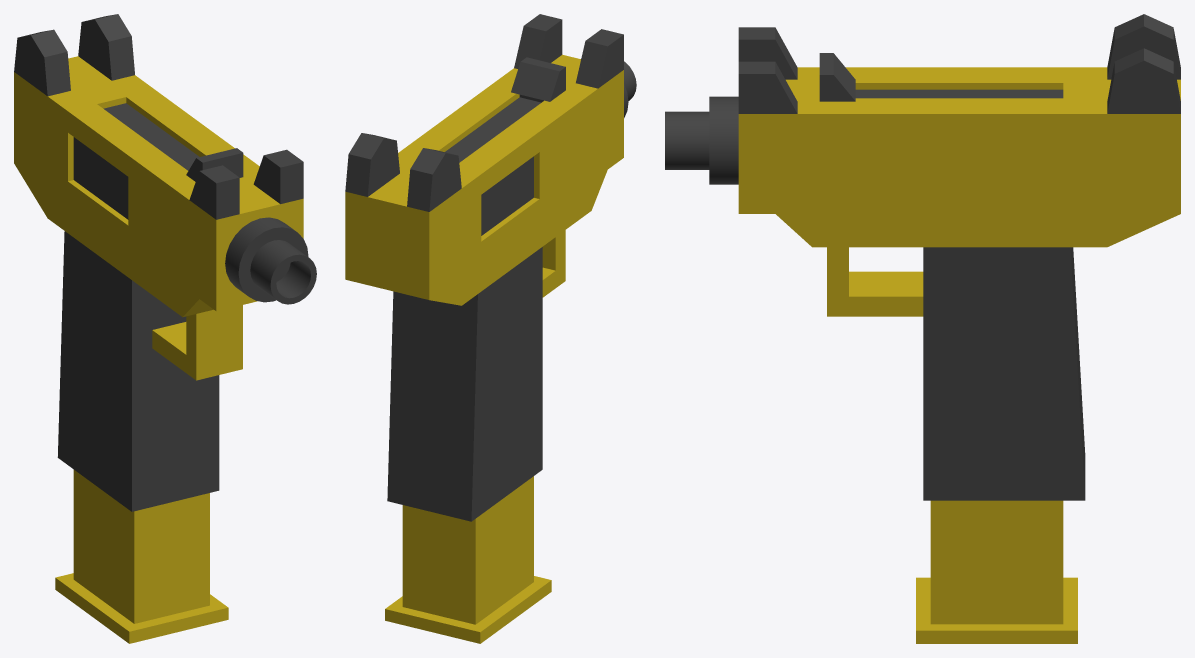
File: uziGold.fbx
3 renders of one model, left to right at view 1: azimuth 30°, elevation 25°; view 2: azimuth 150°, elevation 25°; view 3: azimuth 270°, elevation 25°, orthographic. The views are drawn at different scales.
Parts seen in each view (by area): view 1: Mesh3_Group4 Group1 Model, Mesh1_Group2 Group1 Model, Mesh2_Group3 Group1 Model; view 2: Mesh3_Group4 Group1 Model, Mesh1_Group2 Group1 Model, Mesh2_Group3 Group1 Model; view 3: Mesh3_Group4 Group1 Model, Mesh1_Group2 Group1 Model, Mesh2_Group3 Group1 Model.
Part boxes in pixels (left/top/right/bottom): Mesh3_Group4 Group1 Model: left=14, top=14, right=316, bottom=511; Mesh1_Group2 Group1 Model: left=55, top=470, right=228, bottom=643; Mesh2_Group3 Group1 Model: left=186, top=148, right=243, bottom=181; Mesh3_Group4 Group1 Model: left=345, top=14, right=636, bottom=521; Mesh1_Group2 Group1 Model: left=385, top=476, right=551, bottom=643; Mesh2_Group3 Group1 Model: left=511, top=57, right=565, bottom=102; Mesh3_Group4 Group1 Model: left=665, top=14, right=1180, bottom=500; Mesh1_Group2 Group1 Model: left=916, top=500, right=1077, bottom=643; Mesh2_Group3 Group1 Model: left=819, top=53, right=855, bottom=101.
Bounding box in the file's own units: 0.0102 × 0.0522 × 0.0421.
